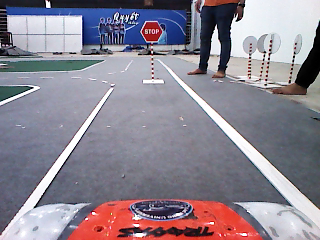stop: (140, 20, 164, 43)
